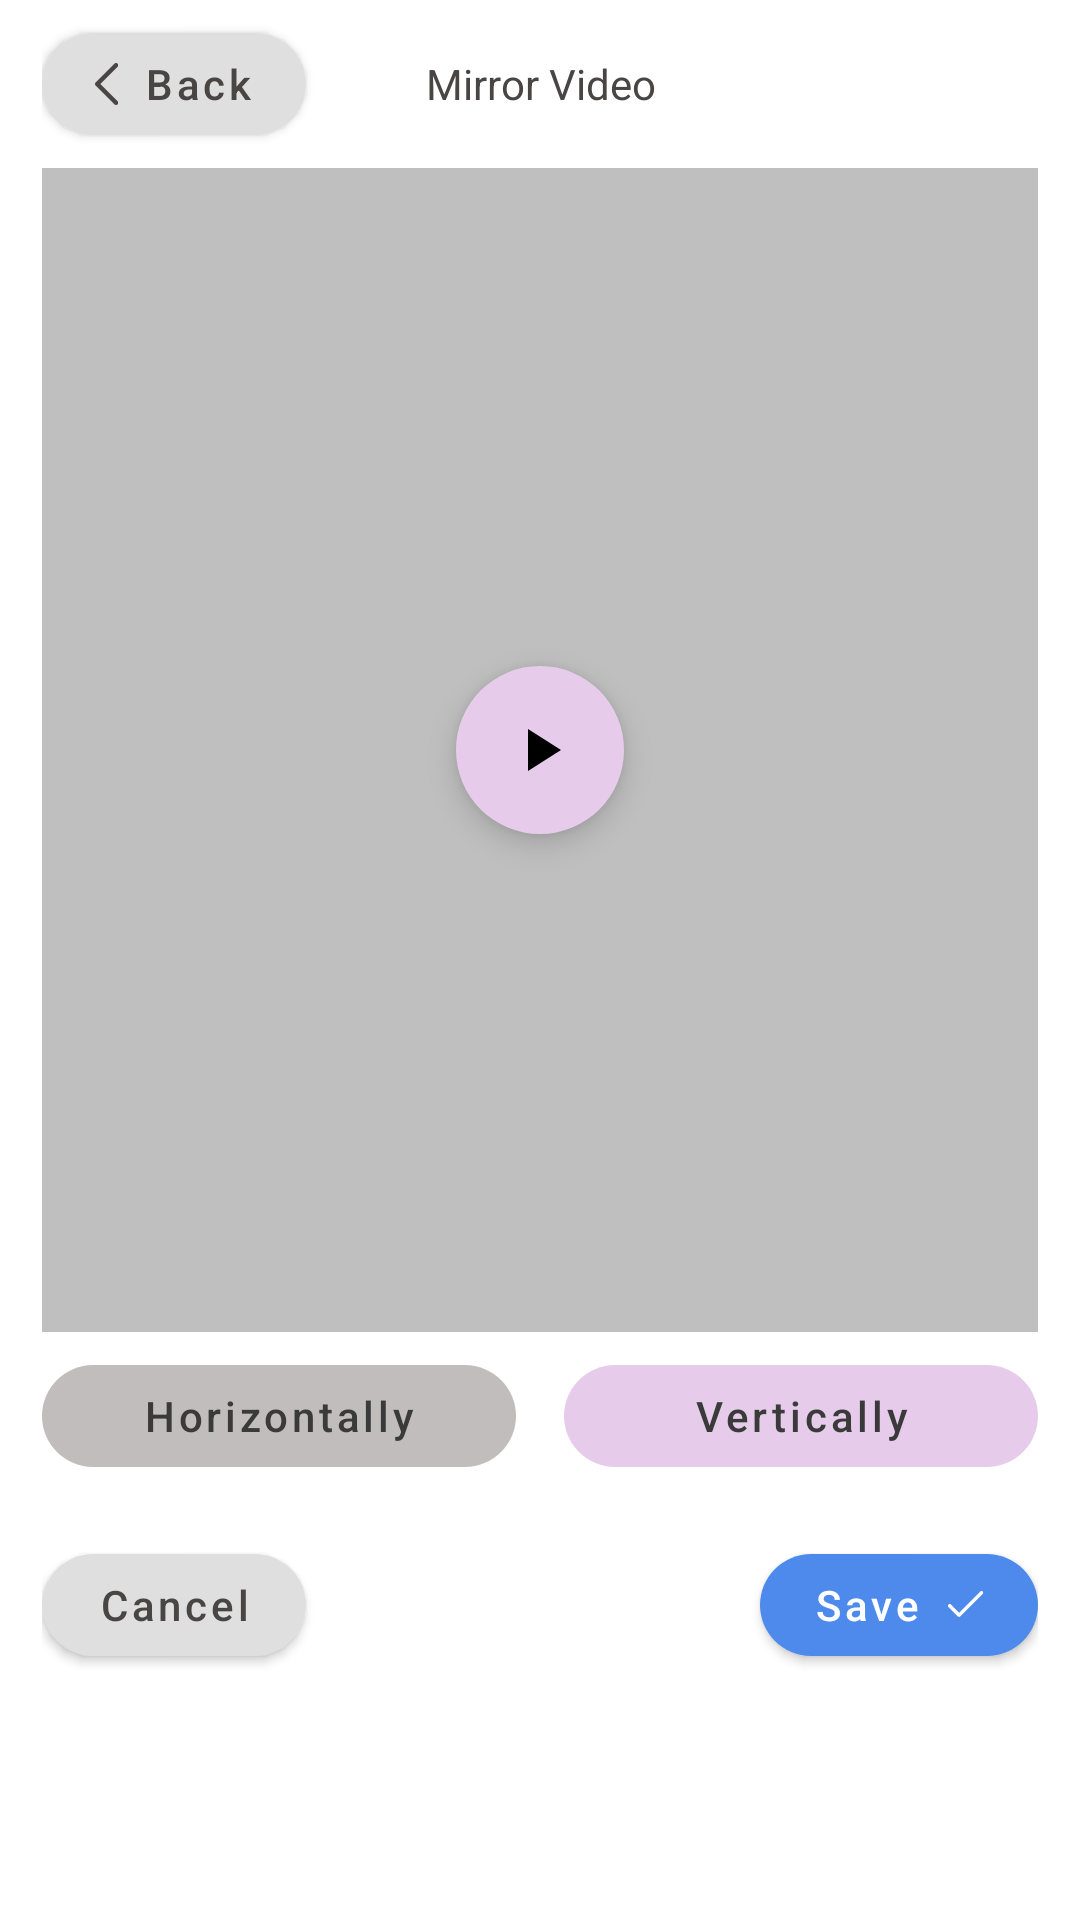

Icon click points for this 1080px×1920px phone screenshot, format (x=x, y=y):
play arrow: (x=540, y=750)
